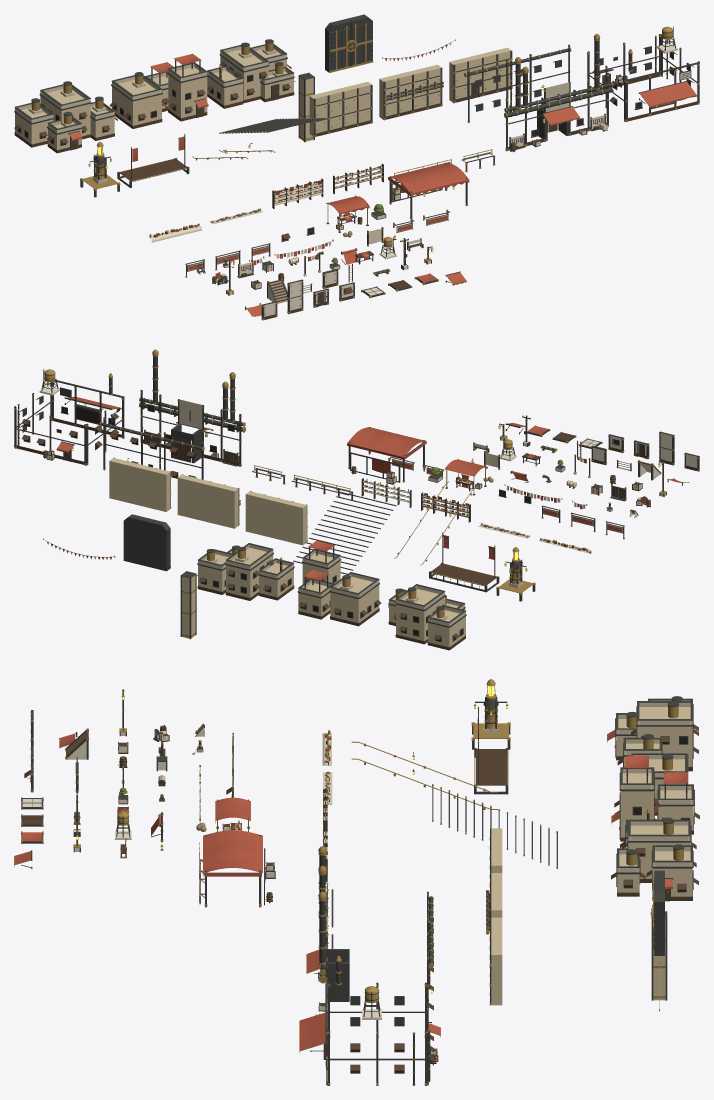
Rendered from kit_town.glb.
3 renders of one model, top to bottom at view 1: azimuth 30°, elevation 25°; view 2: azimuth 150°, elevation 25°; view 3: azimuth 270°, elevation 25°, orthographic. The views are drawn at different scales.
Parts seen in each view (by area): view 1: workshop_front, lower_block_b, lower_block_a, lower_block_c, diner_front, retaining_b, retaining_a, retaining_c, gate_door, stall, stage, parapet_corner (+6 smaller); view 2: workshop_front, lower_block_b, lower_block_c, diner_front, lower_block_a, retaining_b, retaining_a, retaining_c, stall, gate_door, stair_treads_16, stage (+6 smaller); view 3: lower_block_c, lower_block_b, diner_front, lower_block_a, workshop_front, stall, stage, monument, retaining_c, stair_treads_16, gate_door, parapet_corner (+2 smaller).
Boxes of the visible parts, x1,y1,x2,y2 form: workshop_front: [464, 34, 613, 151]; lower_block_b: [109, 53, 208, 128]; lower_block_a: [14, 81, 117, 153]; lower_block_c: [207, 39, 295, 108]; diner_front: [587, 26, 699, 121]; retaining_b: [379, 64, 443, 120]; retaining_a: [309, 81, 372, 137]; retaining_c: [449, 47, 512, 103]; gate_door: [325, 14, 373, 72]; stall: [388, 162, 469, 219]; stage: [117, 134, 189, 187]; parapet_corner: [298, 72, 314, 142]; workshop_front: [99, 349, 245, 479]; lower_block_b: [297, 540, 381, 626]; lower_block_c: [196, 543, 294, 600]; diner_front: [14, 369, 124, 465]; lower_block_a: [388, 584, 466, 650]; retaining_b: [177, 474, 240, 528]; retaining_a: [245, 491, 307, 545]; retaining_c: [109, 457, 171, 511]; stall: [347, 427, 426, 484]; gate_door: [123, 514, 170, 571]; stair_treads_16: [293, 491, 396, 574]; stage: [429, 532, 499, 592]; lower_block_c: [611, 808, 698, 901]; lower_block_b: [611, 753, 699, 841]; diner_front: [299, 955, 440, 1085]; lower_block_a: [607, 696, 698, 771]; workshop_front: [306, 846, 433, 1024]; stall: [203, 830, 275, 907]; stage: [474, 706, 508, 794]; monument: [471, 679, 510, 749]; retaining_c: [489, 917, 502, 1005]; stair_treads_16: [432, 784, 557, 868]; gate_door: [650, 870, 664, 955]; parapet_corner: [651, 911, 667, 1000].
Size of the model in its own units: 75.89 by 20.8 by 61.98.
